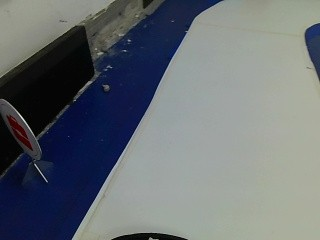company: (0, 95, 44, 160)
